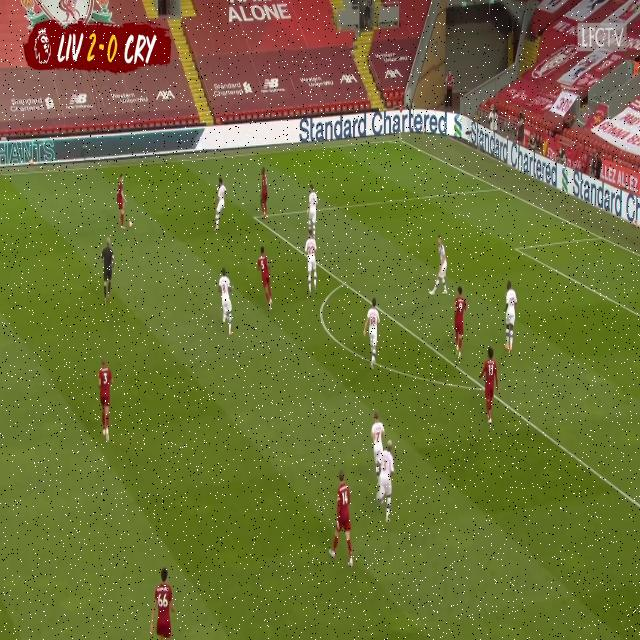Ball: (127, 210, 137, 235)
TEAM 1: (328, 465, 356, 578), (477, 346, 502, 424), (253, 247, 281, 315), (147, 567, 173, 640), (96, 362, 115, 442), (453, 284, 470, 356), (256, 168, 277, 220), (113, 169, 128, 231)
TEAM 2: (375, 436, 399, 534), (497, 276, 525, 358), (422, 232, 451, 297), (295, 230, 322, 293), (364, 292, 384, 374), (213, 272, 238, 336), (208, 174, 229, 234), (302, 182, 324, 239), (369, 407, 382, 481)
